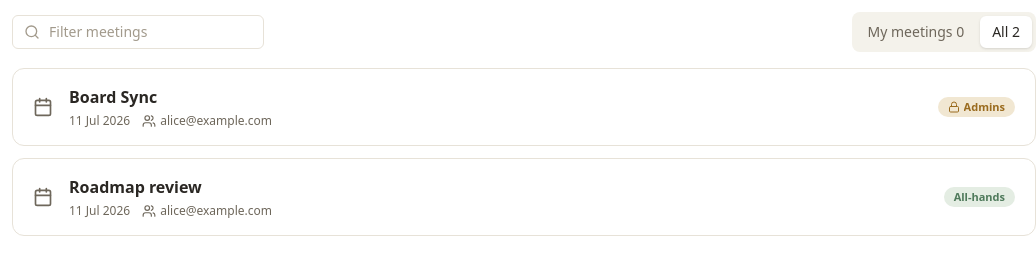
Scenario: MeetingList filter › narrows to matching meetings
The image size is (1036, 253).
Type "roadmap" into the search field labelled "Filter meetings". click: [138, 32]
box: [12, 15, 264, 49]
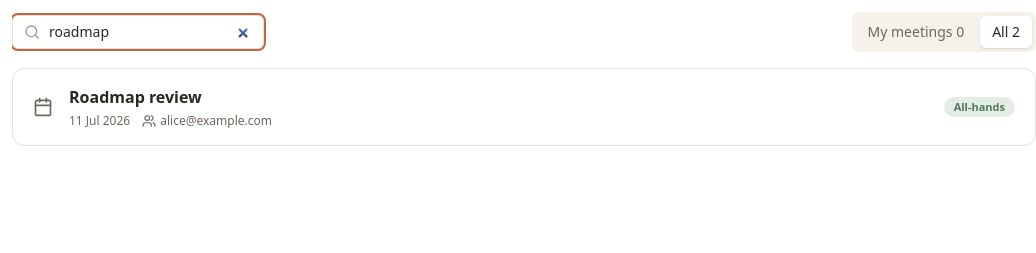
Expected: the link "Roadmap review" is shown, [69, 86, 202, 108]
Now the link "Board Sync" is gone
